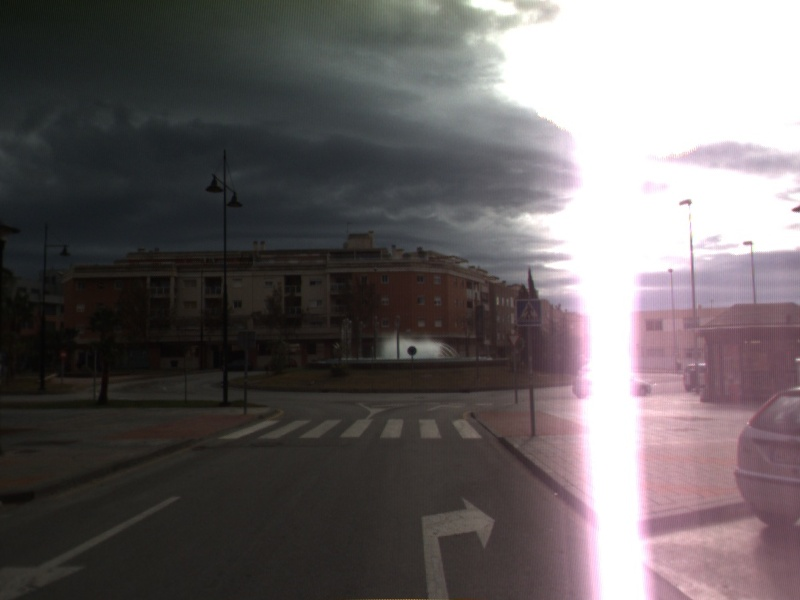RIGHT: (418, 492, 499, 600)
